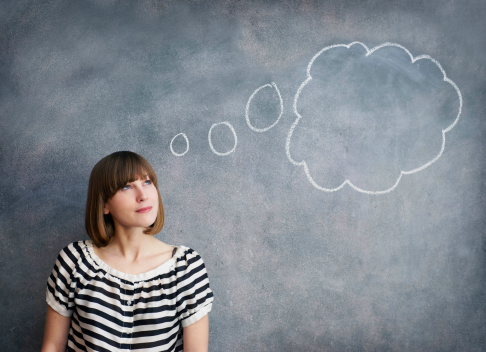em pe: (40, 146, 231, 352)
